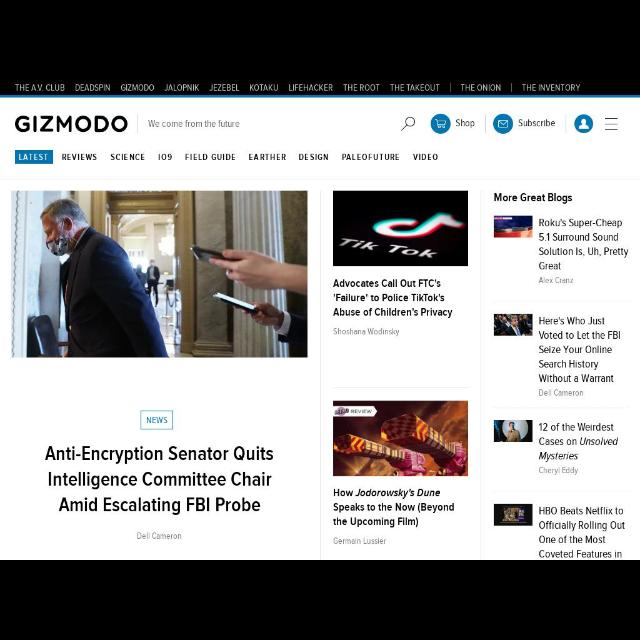icon: (492, 114, 514, 134), (431, 115, 452, 134), (574, 115, 594, 134), (401, 117, 415, 131), (604, 117, 618, 131)
image: (10, 190, 308, 358), (334, 401, 468, 477), (334, 192, 468, 266), (494, 314, 534, 336), (494, 420, 534, 442), (494, 504, 534, 526), (493, 216, 532, 238)
multitab: (16, 150, 438, 164), (14, 82, 582, 92)
text: (44, 446, 272, 516), (539, 318, 621, 382), (333, 488, 455, 528), (333, 279, 452, 319), (539, 218, 629, 270), (539, 508, 625, 558), (539, 423, 619, 463), (14, 116, 128, 132), (494, 192, 572, 204), (147, 120, 239, 128), (333, 327, 399, 337), (522, 82, 580, 91), (342, 153, 400, 161), (390, 82, 440, 91), (289, 83, 333, 93), (332, 537, 386, 545), (15, 84, 65, 92), (539, 466, 579, 476), (136, 532, 182, 540), (518, 119, 556, 128), (461, 83, 502, 91), (538, 389, 584, 396), (184, 154, 236, 160), (164, 82, 198, 91), (248, 153, 286, 161), (343, 83, 379, 91), (76, 83, 110, 91), (62, 153, 96, 161), (111, 153, 145, 161), (209, 84, 239, 92), (18, 153, 48, 161), (298, 153, 328, 161), (250, 84, 278, 92), (456, 118, 474, 130), (538, 278, 574, 284), (412, 153, 438, 161), (120, 84, 154, 90), (146, 416, 168, 424), (158, 153, 172, 161)
textbutton: (141, 410, 173, 430), (14, 149, 54, 163)
